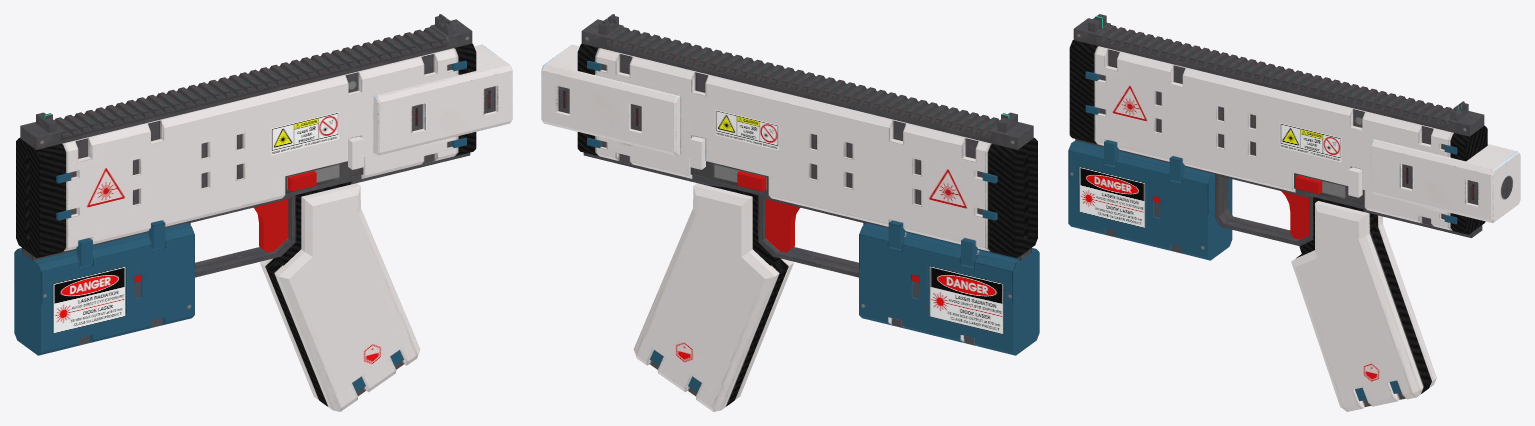
The model's file is multitool.glb.
The picture shows the model from 3 angles, left to right: view 1: azimuth 30°, elevation 25°; view 2: azimuth 150°, elevation 25°; view 3: azimuth 330°, elevation 25°; orthographic projection. The views are drawn at different scales.
Visible parts, largest first — view 1: pistol_body, pistol_trigger, pistol_trigger_lock; view 2: pistol_body, pistol_trigger; view 3: pistol_body, pistol_trigger.
Boxes of the visible parts, bbox=[...] form: pistol_body: bbox=[14, 14, 512, 411]; pistol_trigger: bbox=[253, 199, 288, 252]; pistol_trigger_lock: bbox=[287, 171, 316, 191]; pistol_body: bbox=[541, 14, 1039, 411]; pistol_trigger: bbox=[765, 199, 800, 252]; pistol_body: bbox=[1068, 14, 1520, 411]; pistol_trigger: bbox=[1281, 191, 1309, 239].
Size of the model in its own units: 77.89 by 56.94 by 9.18.
Materials: 1 (1 with a texture image).
